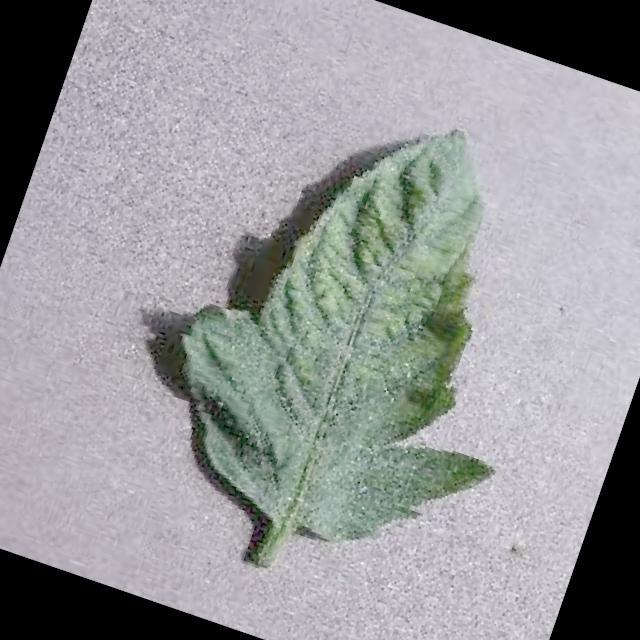Tomato mosaic virus leaf: (130, 65, 602, 592)
